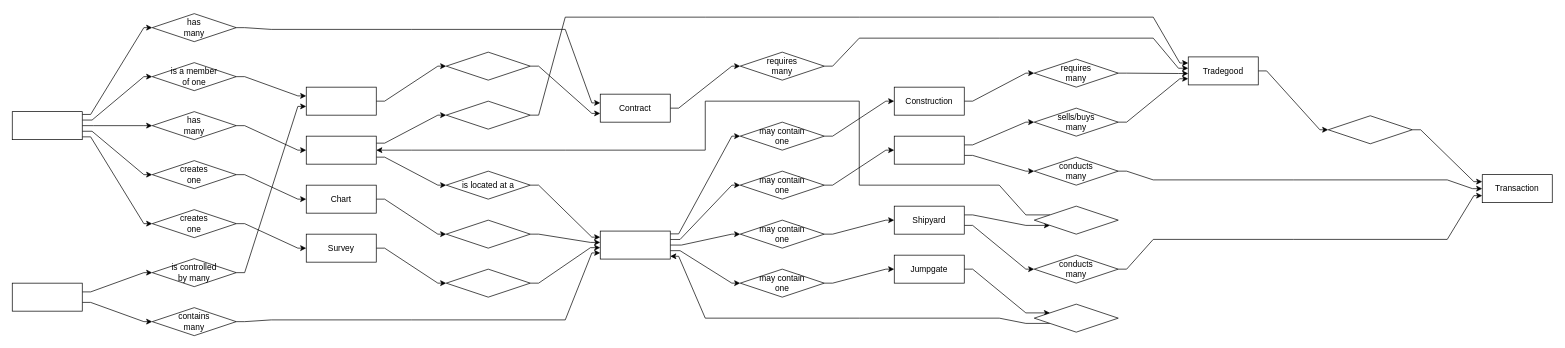
Some shapes in this 1565 by 348 pixel diagram are drawn without their labels. The centre of each missing label's shape, as x and y in pixels:
Agent: pixel 47 125
can extract many: pixel 488 114
describes one: pixel 488 282
exchanged via: pixel 1370 129
Faction: pixel 341 100
links to: pixel 1076 317
Market: pixel 929 149
offers one: pixel 488 65
provides info on one: pixel 488 233
sells many: pixel 1076 219
Ship: pixel 341 149
System: pixel 47 296
Waypoint: pixel 635 244
